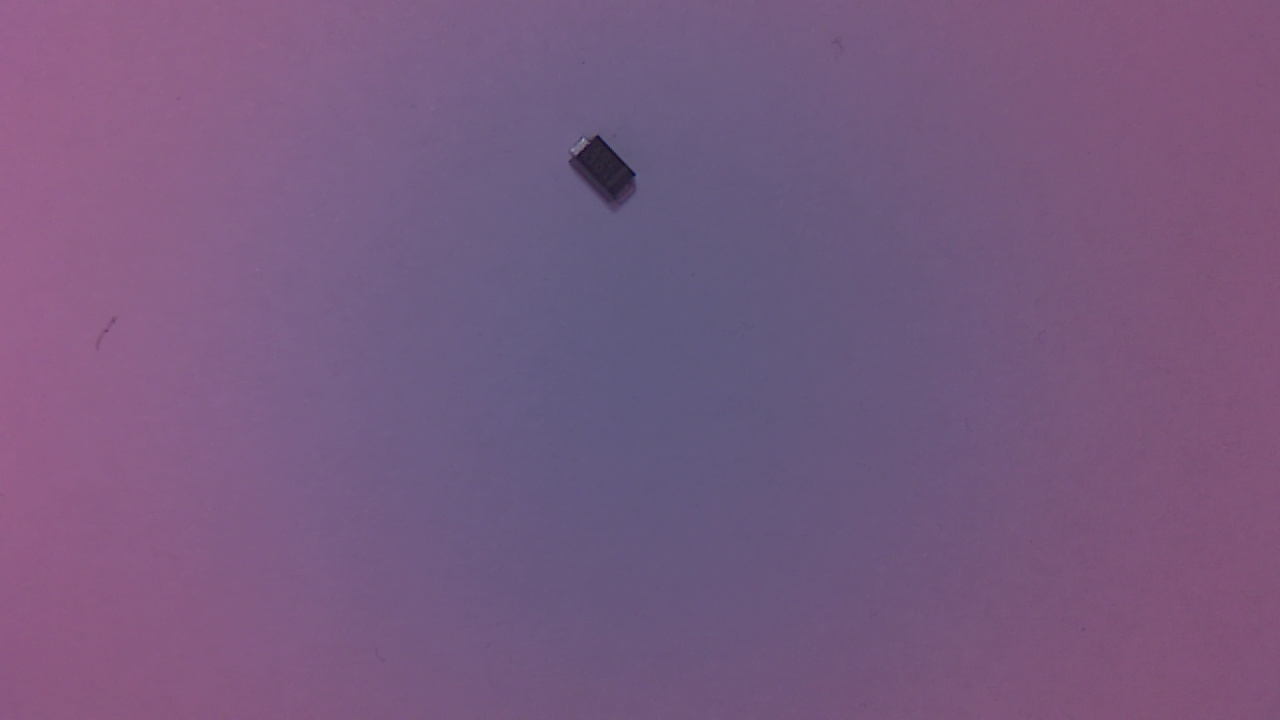Diode: (571, 135, 650, 216)
